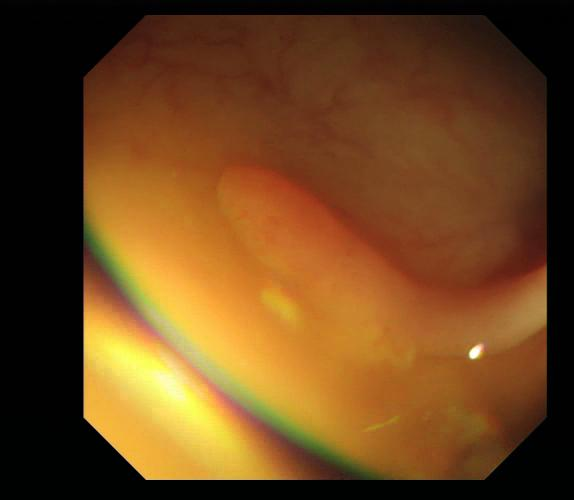polyp: (219, 160, 545, 347)
